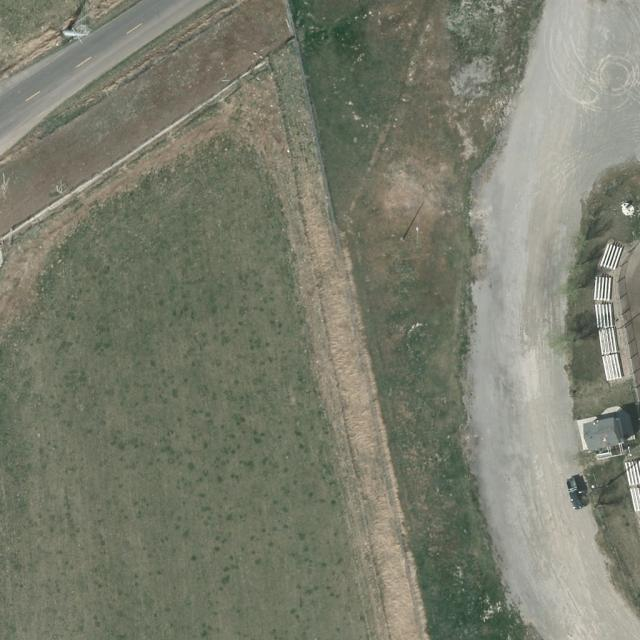vehicle: (564, 478, 584, 511)
